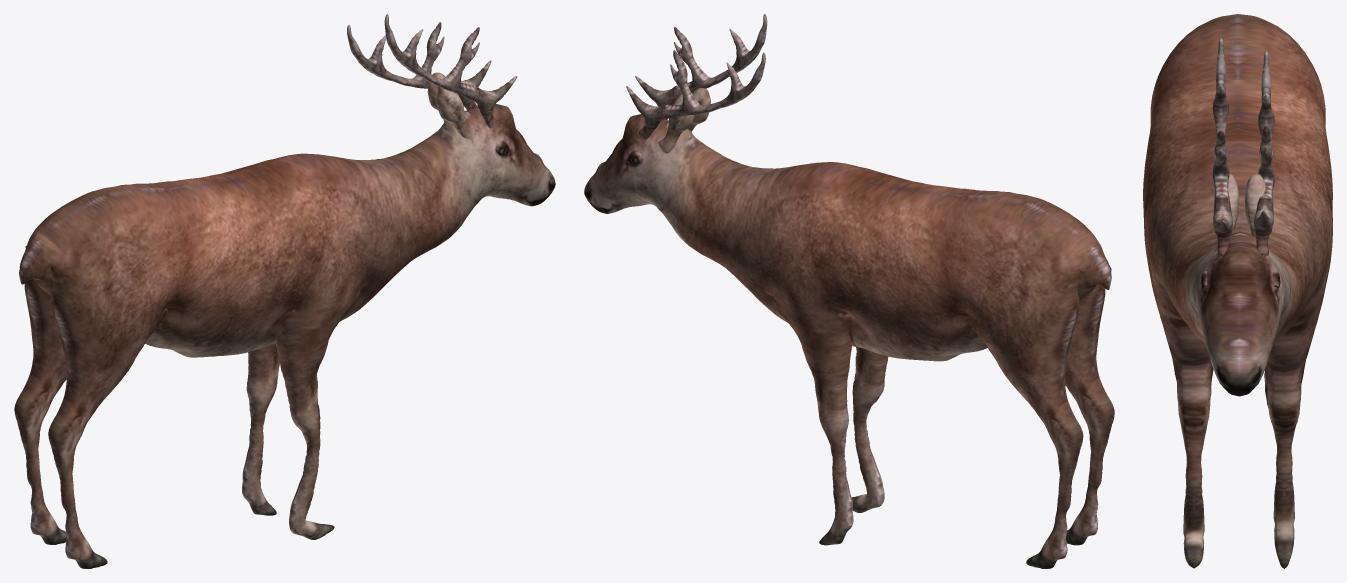
The model's file is nm_deer.glb.
3 renders of one model, left to right at view 1: azimuth 30°, elevation 25°; view 2: azimuth 150°, elevation 25°; view 3: azimuth 270°, elevation 25°, orthographic. The views are drawn at different scales.
Parts seen in each view (by area): view 1: mesh_0; view 2: mesh_0; view 3: mesh_0.
Boxes of the visible parts, x1,y1,x2,y2 form: mesh_0: (14,14,555,568); mesh_0: (584,14,1114,568); mesh_0: (1143,14,1332,568).
Bounding box in the file's own units: 8.36 × 7.47 × 2.22.
1 material, 1 textured.
